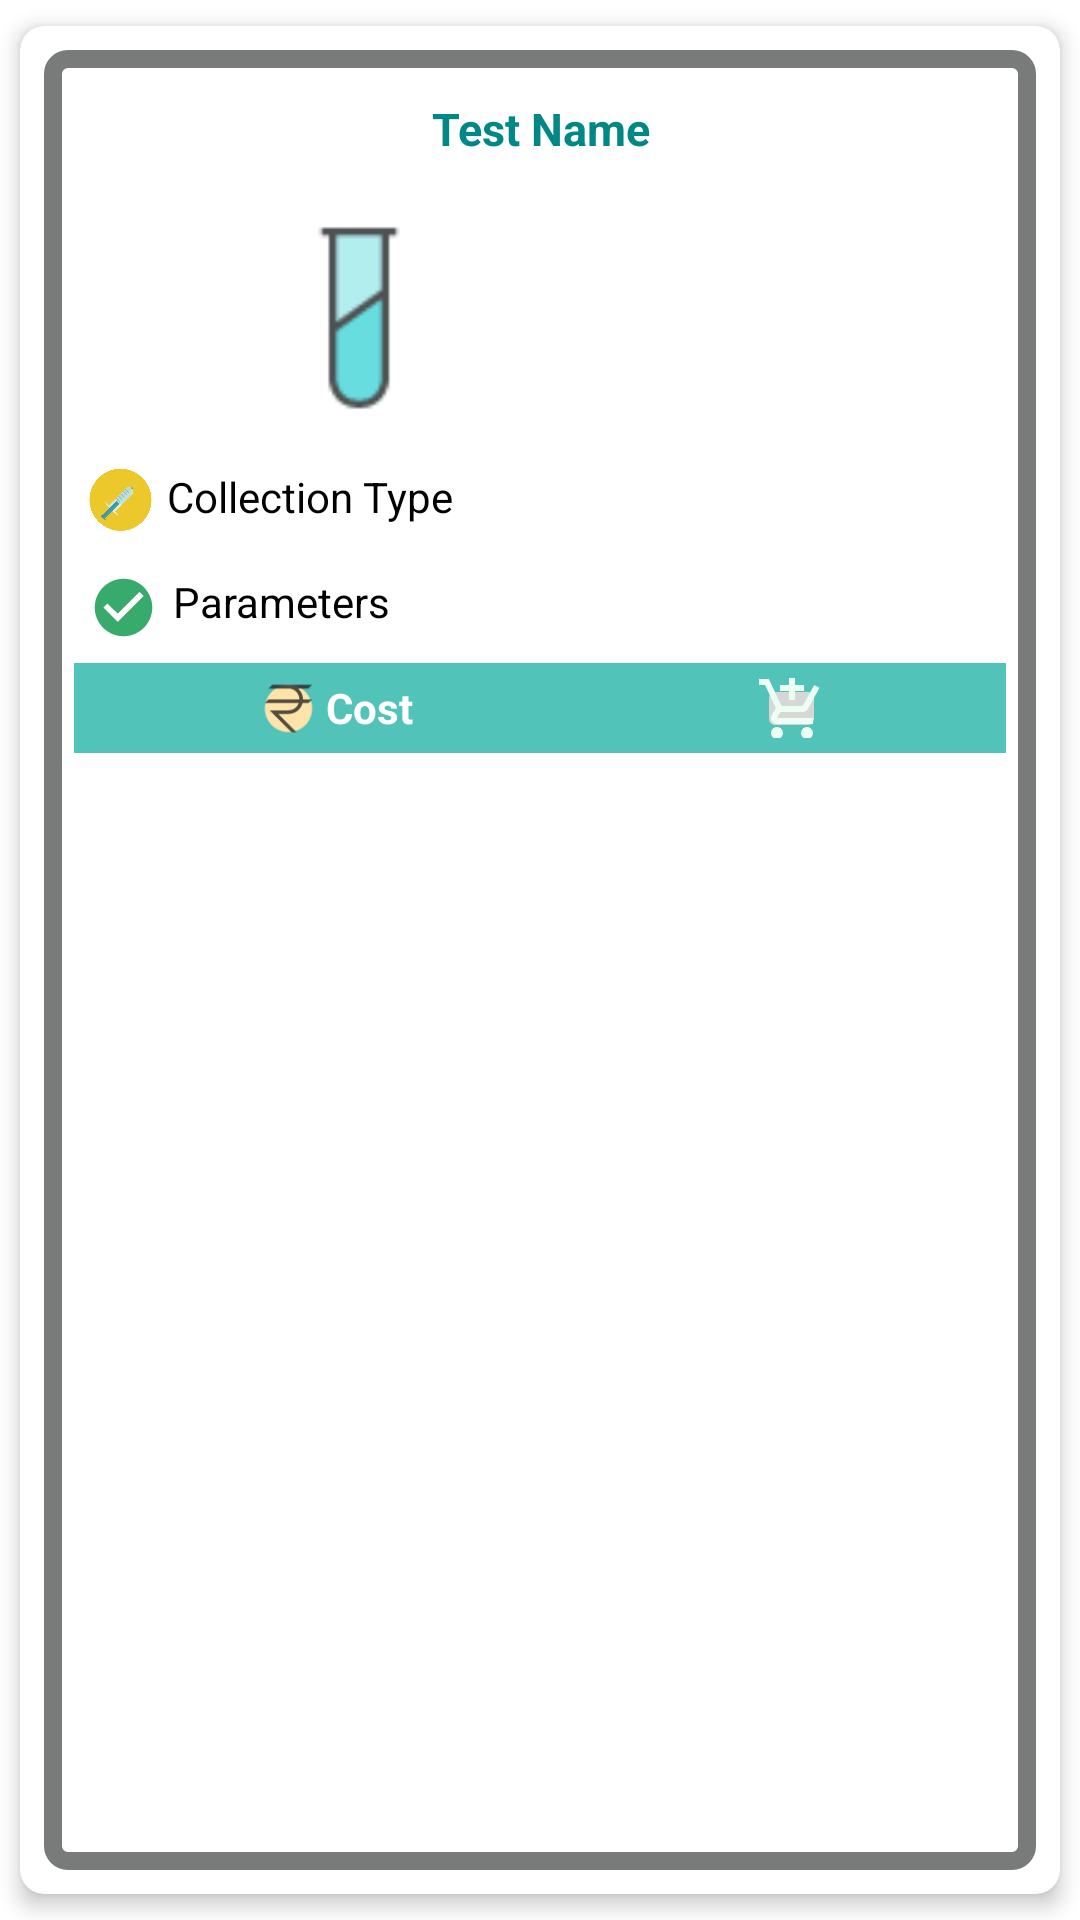

Icon click points for this 1080*1920 phone screenshot, format (x=x, y=y):
add to cart: (x=789, y=708)
check: (x=123, y=607)
currency rupee sign: (x=288, y=708)
